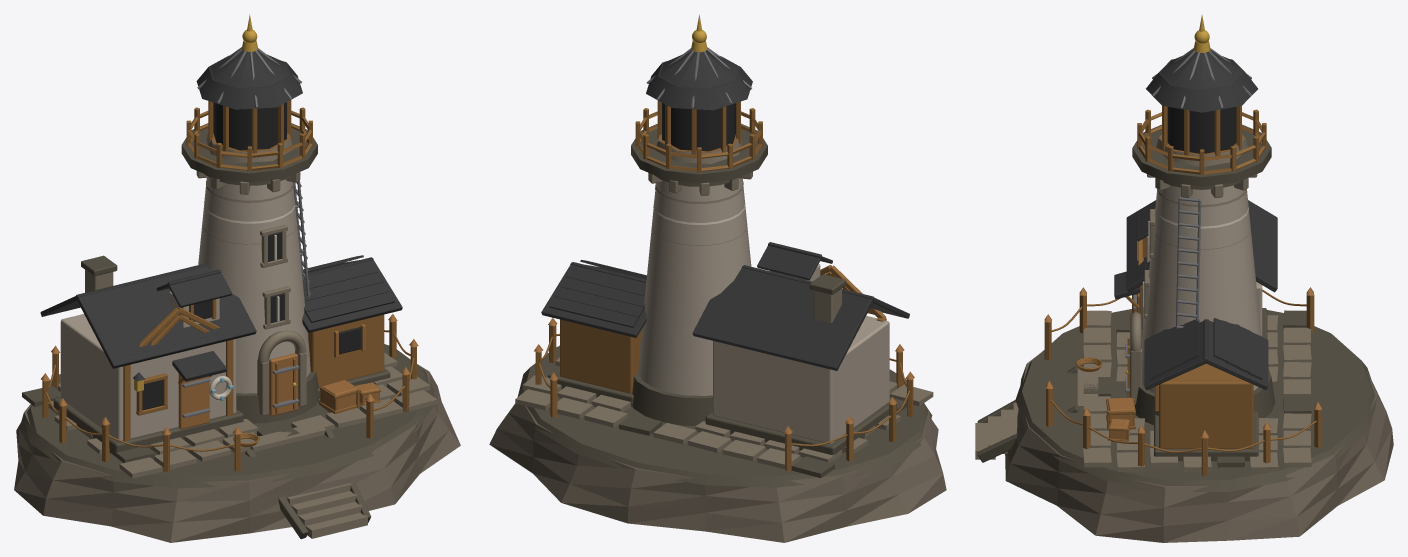
File: restored-lighthouse.glb
3 renders of one model, left to right at view 1: azimuth 30°, elevation 25°; view 2: azimuth 150°, elevation 25°; view 3: azimuth 270°, elevation 25°, orthographic. The views are drawn at different scales.
Parts seen in each view (by area): view 1: restored-lighthouse-farm-rock, restored-lighthouse-farm-roof-slate, restored-lighthouse-farm-plaster, restored-lighthouse-farm-stone-dark, restored-lighthouse-farm-stone, restored-lighthouse-farm-wood-dark, restored-lighthouse-farm-wood, restored-lighthouse-farm-window, restored-lighthouse-farm-metal, restored-lighthouse-farm-trim; view 2: restored-lighthouse-farm-plaster, restored-lighthouse-farm-rock, restored-lighthouse-farm-roof-slate, restored-lighthouse-farm-stone-dark, restored-lighthouse-farm-wood-dark, restored-lighthouse-farm-stone, restored-lighthouse-farm-window, restored-lighthouse-farm-metal; view 3: restored-lighthouse-farm-stone-dark, restored-lighthouse-farm-rock, restored-lighthouse-farm-stone, restored-lighthouse-farm-wood-dark, restored-lighthouse-farm-roof-slate, restored-lighthouse-farm-plaster, restored-lighthouse-farm-window, restored-lighthouse-farm-metal, restored-lighthouse-farm-wood.
Part boxes in pixels (x1,y1,x2,y2): restored-lighthouse-farm-rock: (14, 364, 460, 542); restored-lighthouse-farm-roof-slate: (40, 50, 402, 381); restored-lighthouse-farm-plaster: (60, 177, 310, 440); restored-lighthouse-farm-stone-dark: (22, 123, 435, 539); restored-lighthouse-farm-stone: (48, 133, 437, 538); restored-lighthouse-farm-wood-dark: (42, 100, 416, 471); restored-lighthouse-farm-wood: (41, 314, 418, 435); restored-lighthouse-farm-window: (142, 102, 361, 410); restored-lighthouse-farm-metal: (182, 47, 310, 417); restored-lighthouse-farm-trim: (204, 200, 295, 400); restored-lighthouse-farm-plaster: (638, 178, 889, 443); restored-lighthouse-farm-rock: (489, 346, 946, 542); restored-lighthouse-farm-roof-slate: (541, 51, 909, 370); restored-lighthouse-farm-stone-dark: (517, 123, 932, 487); restored-lighthouse-farm-wood-dark: (535, 100, 913, 470); restored-lighthouse-farm-stone: (515, 133, 933, 468); restored-lighthouse-farm-window: (662, 103, 735, 151); restored-lighthouse-farm-metal: (646, 47, 751, 189); restored-lighthouse-farm-stone-dark: (977, 124, 1375, 491); restored-lighthouse-farm-rock: (1005, 353, 1393, 542); restored-lighthouse-farm-stone: (975, 135, 1311, 471); restored-lighthouse-farm-wood-dark: (1044, 105, 1321, 475); restored-lighthouse-farm-roof-slate: (1114, 52, 1277, 389); restored-lighthouse-farm-plaster: (1141, 185, 1262, 392); restored-lighthouse-farm-window: (1167, 107, 1236, 153); restored-lighthouse-farm-metal: (1125, 48, 1251, 392); restored-lighthouse-farm-wood: (1044, 287, 1321, 441).
Size of the model in its own units: 11.06 by 11.45 by 9.8.
